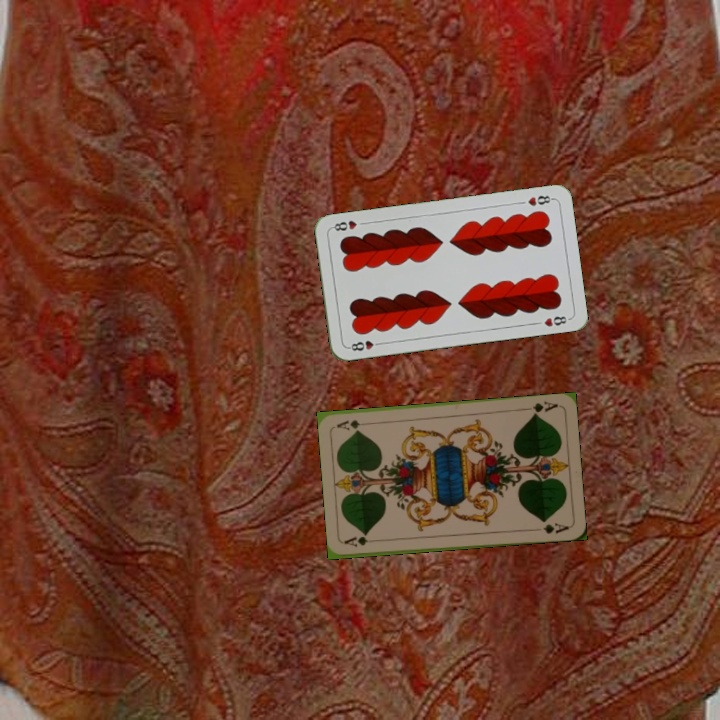GA: (520, 397, 560, 418), (341, 533, 382, 549)
H8: (344, 336, 385, 353), (524, 191, 556, 209)
